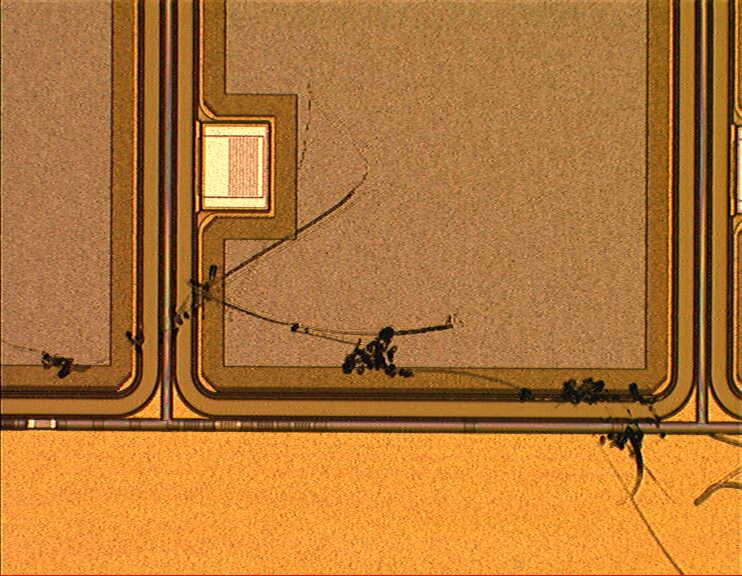SCRATCH: (1, 81, 742, 576)
